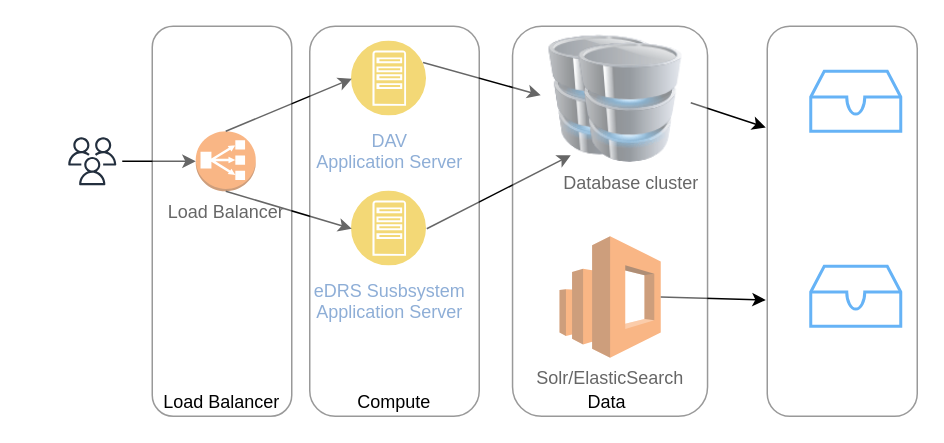
Image size: 944x443. Some labels were removed from this diagram. The shapes that lost their labels are listed below. From the top down, each one's centre as x and y in pixels, then its label:
At point 91,160: "Concurrent User Requests".
At point 841,220: "Storage 100+TB".
